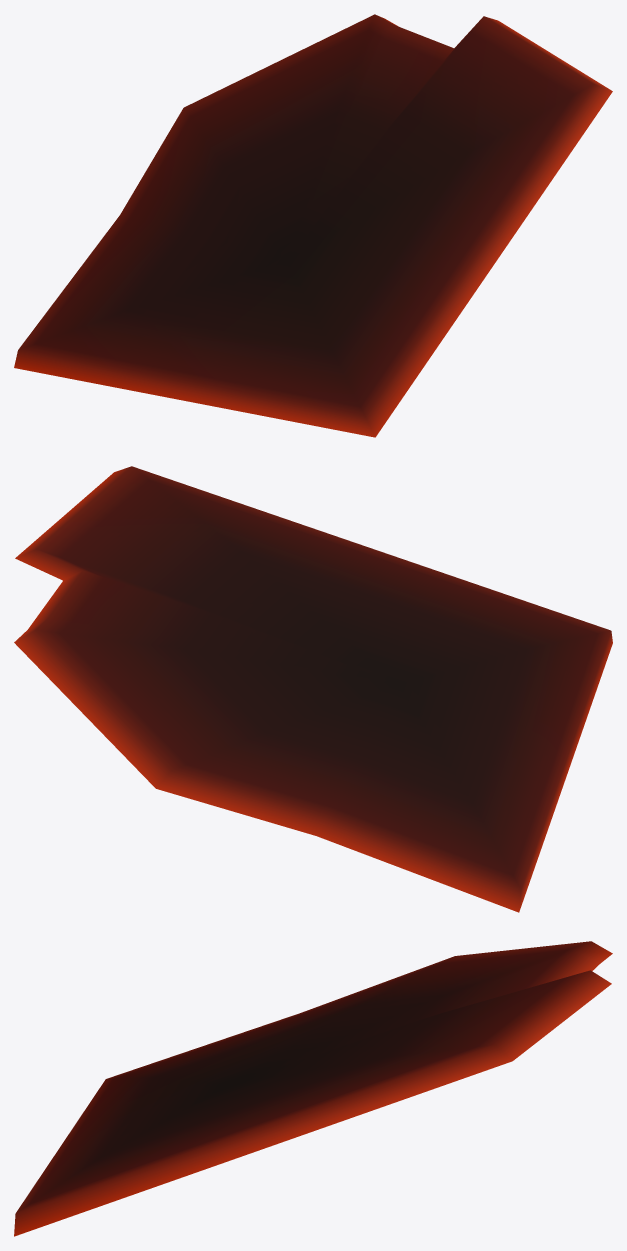
File: raft_m24.glb
The picture shows the model from 3 angles, top to bottom: view 1: azimuth 30°, elevation 25°; view 2: azimuth 150°, elevation 25°; view 3: azimuth 330°, elevation 25°; orthographic projection. The views are drawn at different scales.
Visible parts, largest first — view 1: raft; view 2: raft; view 3: raft.
Part boxes in pixels (left/top/right/bottom): raft: left=14, top=14, right=612, bottom=437; raft: left=14, top=466, right=612, bottom=912; raft: left=14, top=941, right=612, bottom=1236.
Bounding box in the file's own units: 1.32 × 0.6171 × 1.46.
